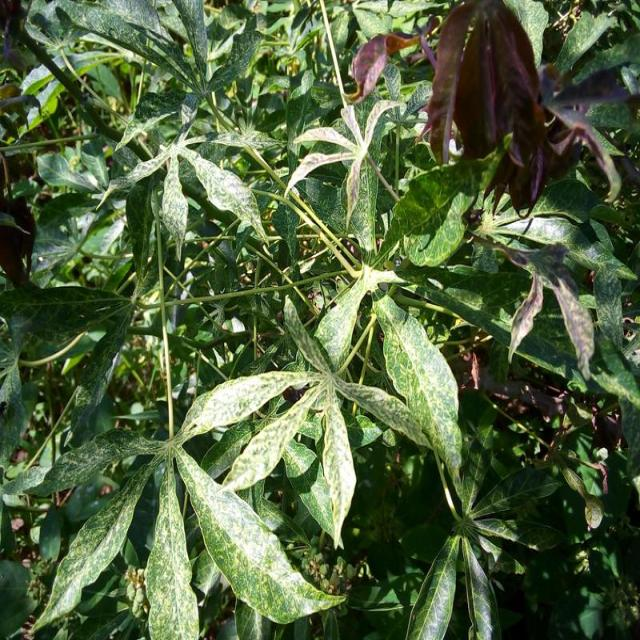cassava leaf: (1, 1, 638, 638), (172, 444, 346, 625), (371, 291, 463, 484)
